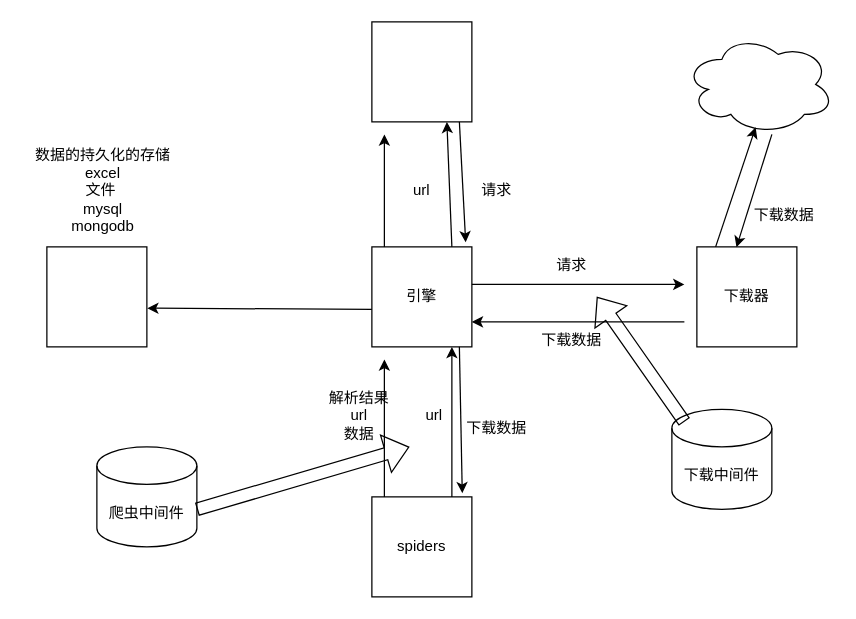
Some shapes in this 856 by 619 pixel diagram are drawn without their labels. Here are the shapes that lost their labels. From the top down, the centre of each, then its label:
At pixel 421 71: "调度器".
At pixel 758 83: "互联网".
At pixel 96 296: "管道".
